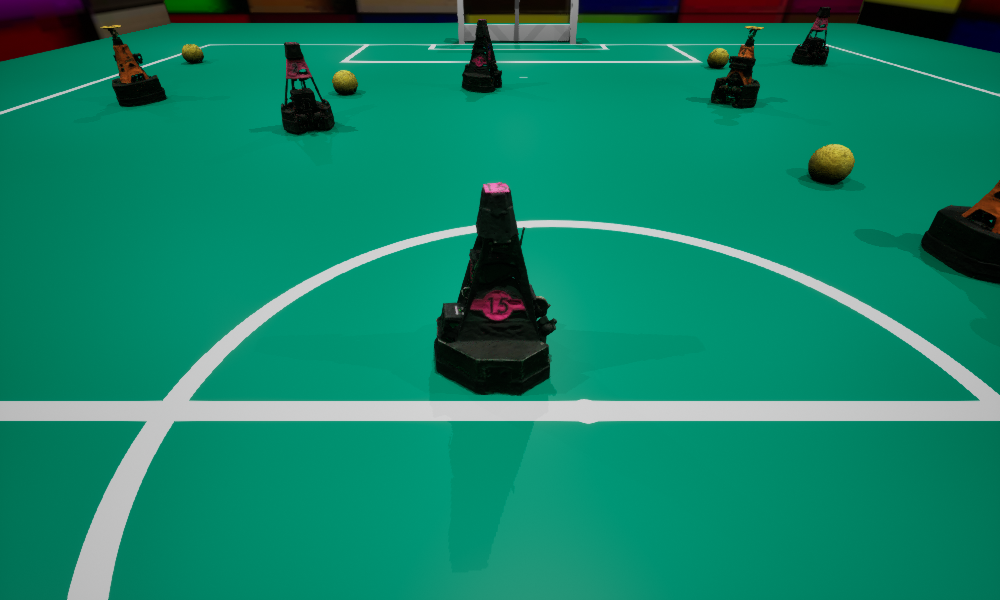b: (808, 144, 854, 182), (332, 70, 357, 94), (707, 48, 728, 67), (182, 44, 203, 62)
o: (921, 180, 999, 283), (100, 25, 166, 106), (711, 26, 763, 107)
p1: (434, 182, 556, 394), (462, 19, 501, 92)
p2: (281, 42, 334, 134), (791, 7, 830, 64)
